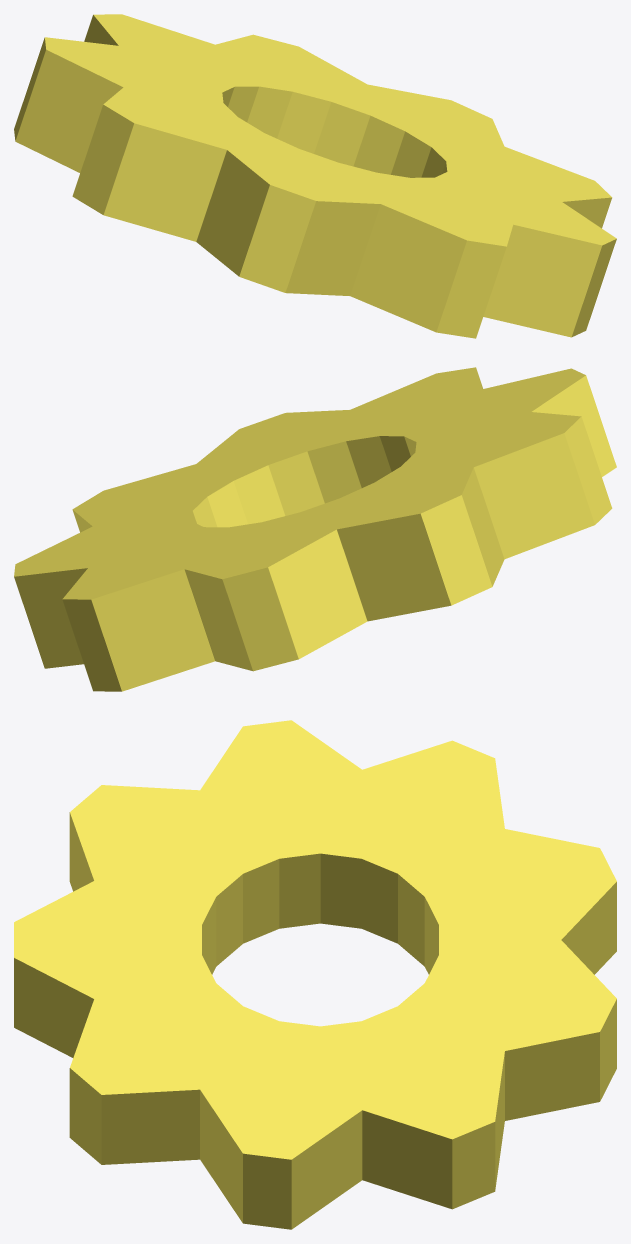
The model's file is Geargeo3.fbx.
The picture shows the model from 3 angles, top to bottom: view 1: azimuth 30°, elevation 25°; view 2: azimuth 150°, elevation 25°; view 3: azimuth 270°, elevation 25°; orthographic projection.
Visible parts, largest first — view 1: Gear3; view 2: Gear3; view 3: Gear3.
Boxes of the visible parts, left/top/right/bottom form: Gear3: left=14, top=14, right=616, bottom=338; Gear3: left=14, top=367, right=616, bottom=691; Gear3: left=14, top=720, right=616, bottom=1229.
Size of the model in its own units: 69.51 by 35.7 by 68.95.
